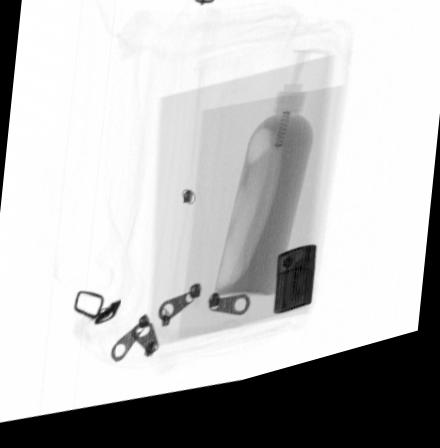Lighter: (273, 260, 317, 328)
